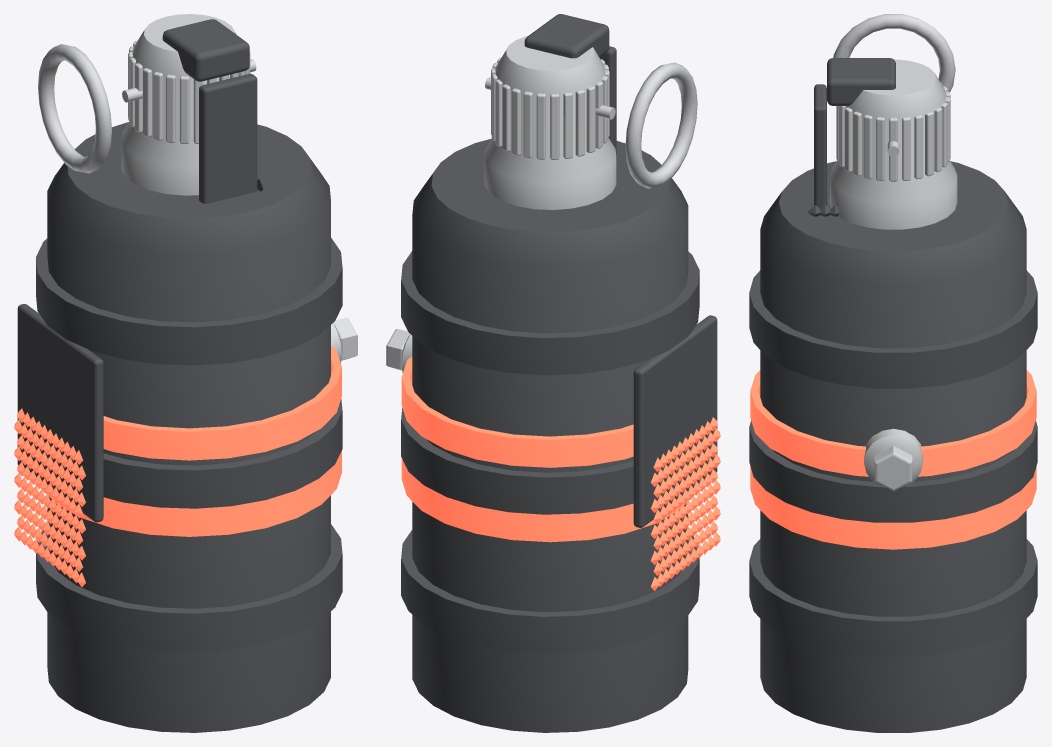
Rendered from mega-weapon-pack-incendiary-grenade-1b1cb28d__33359.glb.
3 renders of one model, left to right at view 1: azimuth 30°, elevation 25°; view 2: azimuth 150°, elevation 25°; view 3: azimuth 270°, elevation 25°, orthographic. The views are drawn at different scales.
Visible parts, largest first — view 1: incendiary-grenade; view 2: incendiary-grenade; view 3: incendiary-grenade.
Boxes of the visible parts, left/top/right/bottom form: incendiary-grenade: left=14, top=14, right=357, bottom=732; incendiary-grenade: left=386, top=14, right=720, bottom=732; incendiary-grenade: left=749, top=14, right=1037, bottom=732.
Size of the model in its own units: 0.0665 by 0.1365 by 0.0584.
